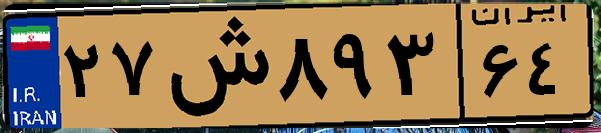2: (57, 26, 110, 100)
3: (385, 28, 445, 110)
4: (525, 38, 570, 115)
6: (475, 38, 525, 113)
7: (110, 28, 158, 98)
8: (270, 28, 330, 110)
9: (330, 28, 385, 110)
ش: (158, 12, 270, 120)
